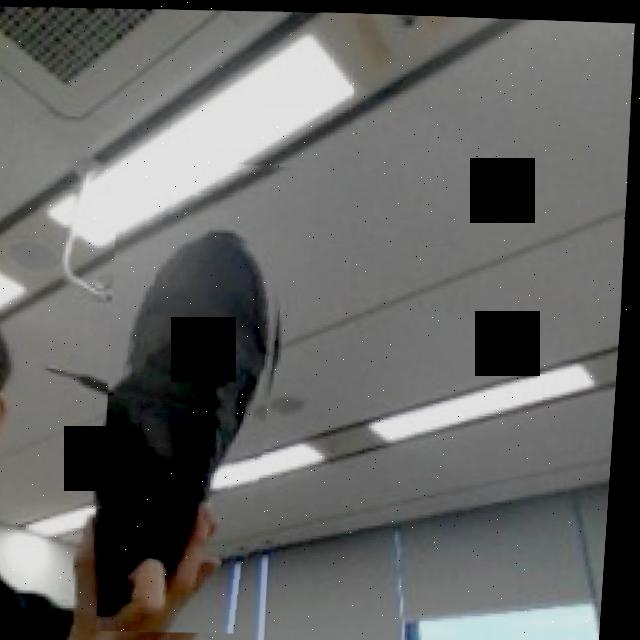shoe: (96, 152, 305, 634)
